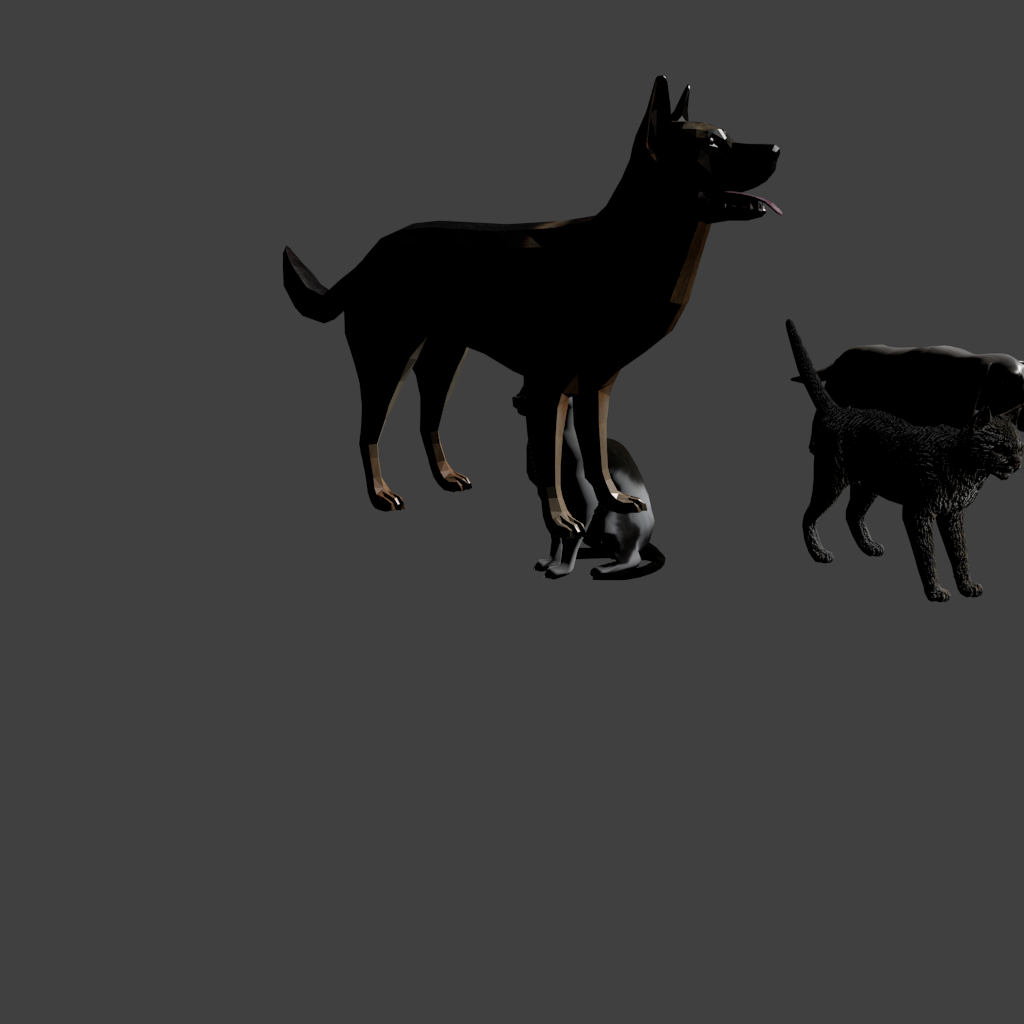Dog: (283, 75, 500, 464)
